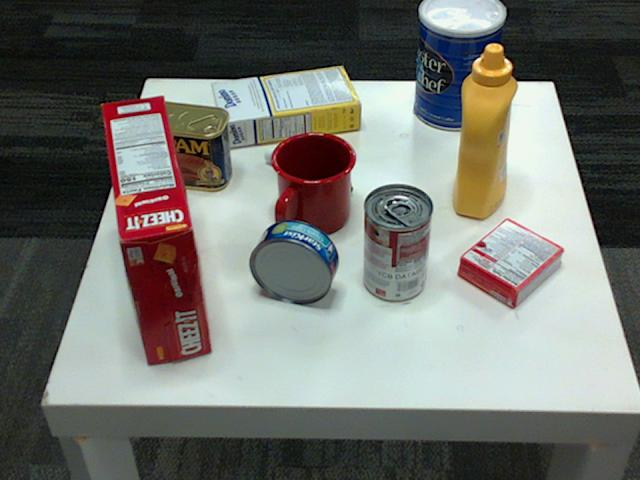cracker_box: (99, 94, 212, 362)
gelatin_box: (458, 218, 564, 307)
large_marker: (263, 150, 350, 195)
master_chef_can: (412, 0, 503, 130)
mug: (271, 129, 357, 232)
mustard_bottle: (451, 44, 517, 217)
potted_meat_can: (135, 102, 232, 190)
sugar_box: (211, 65, 361, 146)
tomato_soup_can: (364, 183, 433, 301)
tuna_fish_can: (251, 220, 340, 303)
